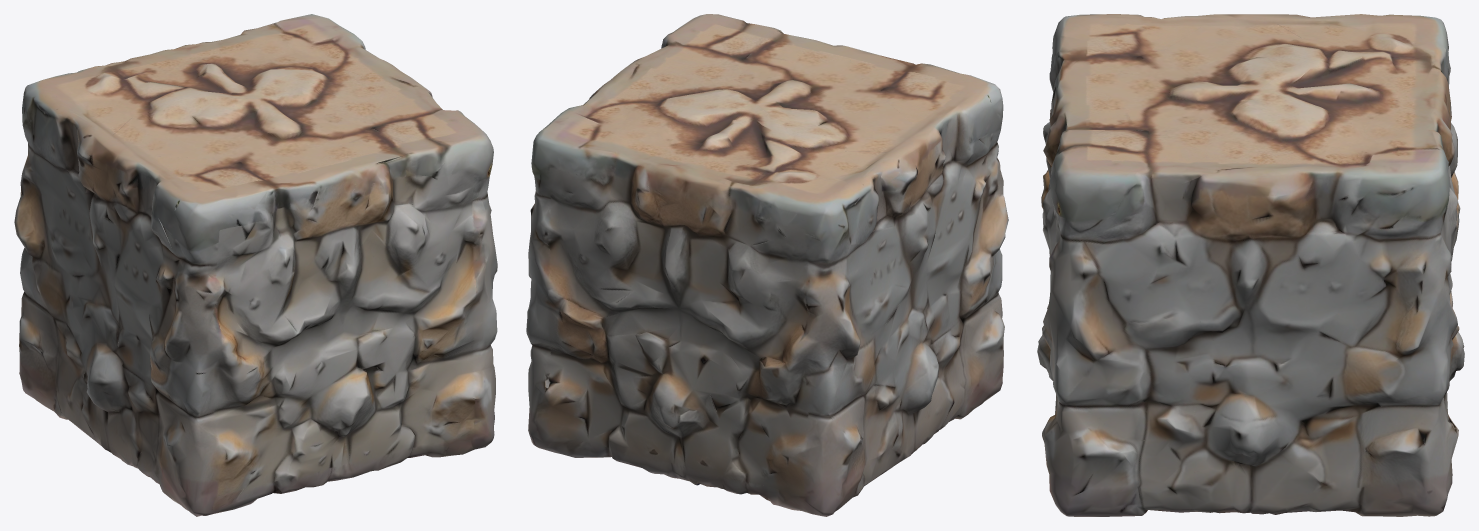
The model's file is blk_cave_wall.glb.
3 views of the same model, side by side, from view 1: azimuth 30°, elevation 25°; view 2: azimuth 150°, elevation 25°; view 3: azimuth 270°, elevation 25° (orthographic). The views are drawn at different scales.
Bounding box in the file's own units: 2 × 1.88 × 2.
Materials: 1 (1 with a texture image).
